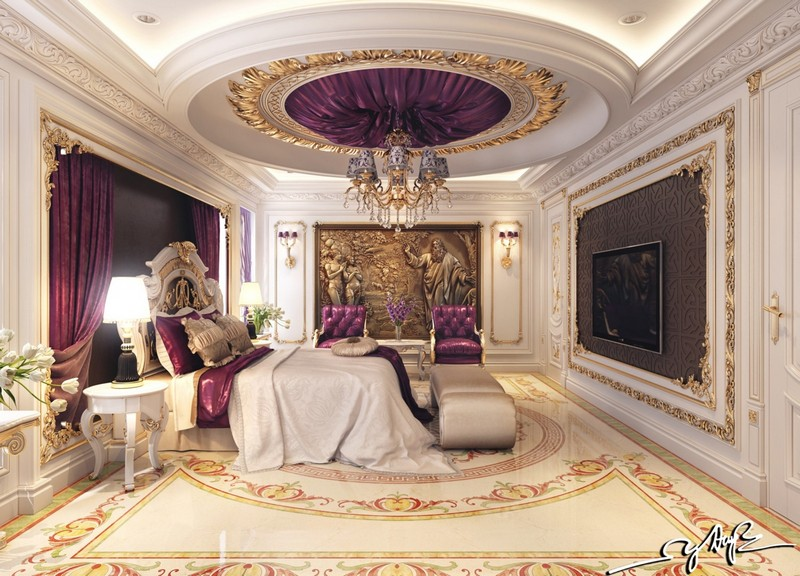bed: (127, 240, 432, 494)
chair: (429, 301, 485, 366), (312, 302, 368, 351)
lamp: (95, 269, 154, 385)
table: (85, 377, 170, 495)
